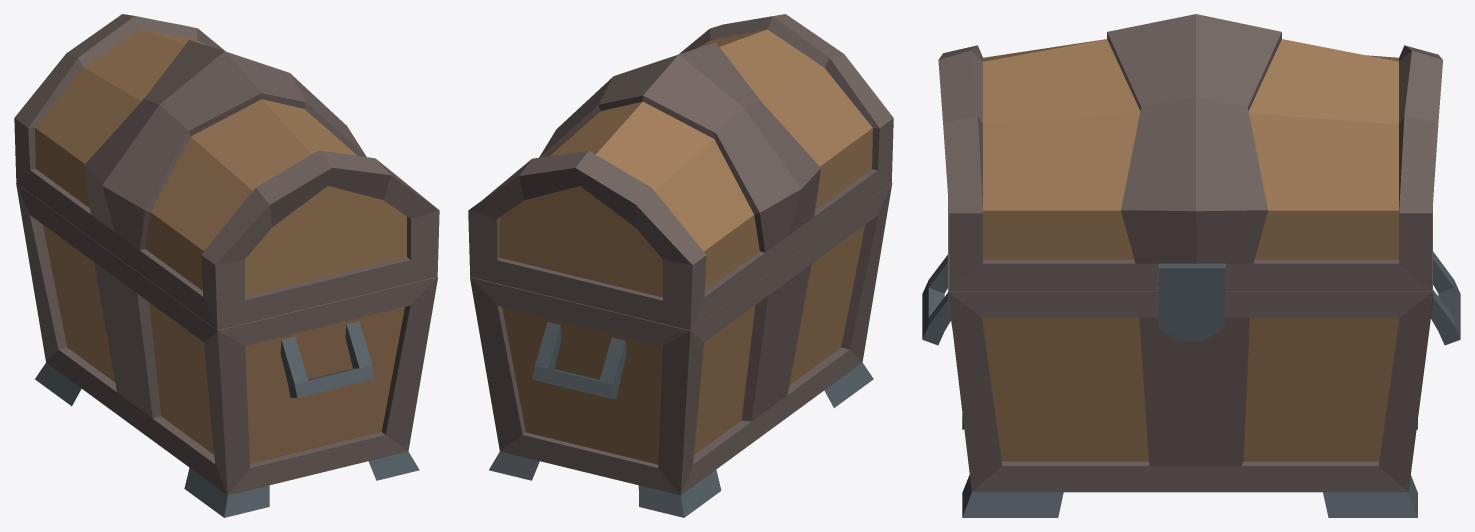
Rendered from Chest-C01.fbx.
3 views of the same model, side by side, from view 1: azimuth 30°, elevation 25°; view 2: azimuth 150°, elevation 25°; view 3: azimuth 270°, elevation 25° (orthographic). The views are drawn at different scales.
Visible parts, largest first — view 1: Chest-C-top, Chest-C01; view 2: Chest-C-top, Chest-C01; view 3: Chest-C-top, Chest-C01.
Part boxes in pixels (x1,y1,x2,y2): Chest-C-top: [14, 14, 439, 330]; Chest-C01: [16, 183, 437, 517]; Chest-C-top: [468, 14, 893, 330]; Chest-C01: [470, 183, 892, 517]; Chest-C-top: [938, 14, 1442, 340]; Chest-C01: [922, 198, 1460, 517].
Bounding box in the file's own units: 70.52 × 102 × 112.
